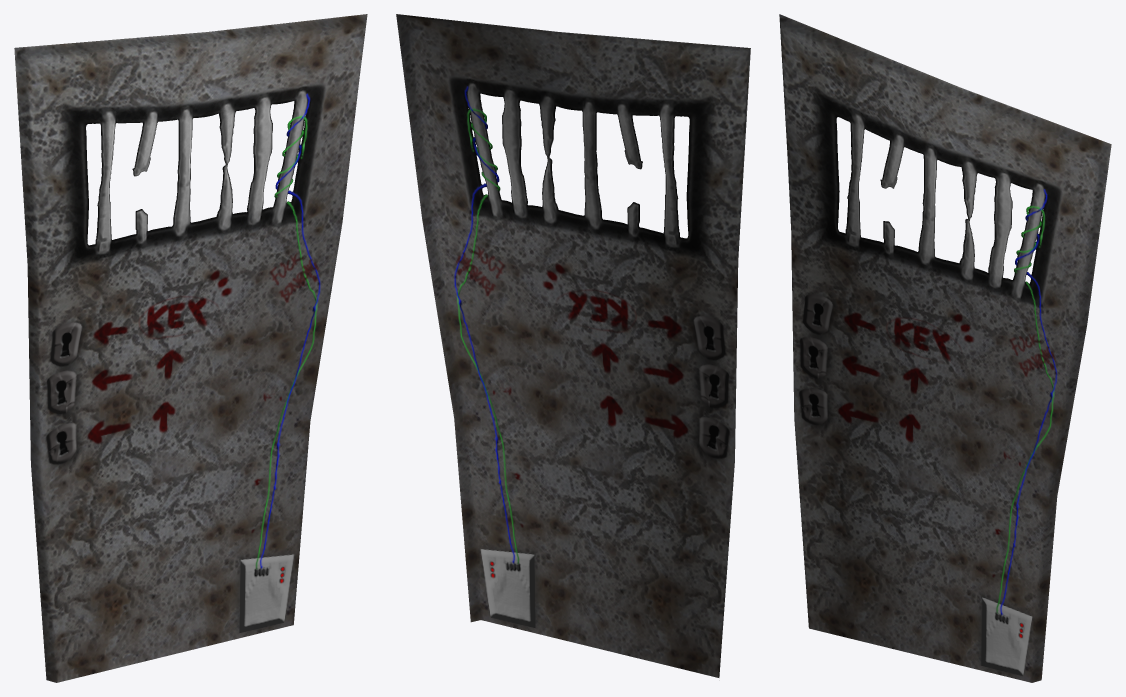
The model's file is ExitDoor.FBX.
3 renders of one model, left to right at view 1: azimuth 30°, elevation 25°; view 2: azimuth 150°, elevation 25°; view 3: azimuth 330°, elevation 25°, orthographic. The views are drawn at different scales.
Visible parts, largest first — view 1: Door; view 2: Door; view 3: Door.
Boxes of the visible parts, box(x1,y1,x2,y2) form: Door: box(14, 14, 367, 682); Door: box(396, 14, 750, 677); Door: box(779, 14, 1111, 682).
Size of the model in its own units: 61.18 by 106 by 1.61.
